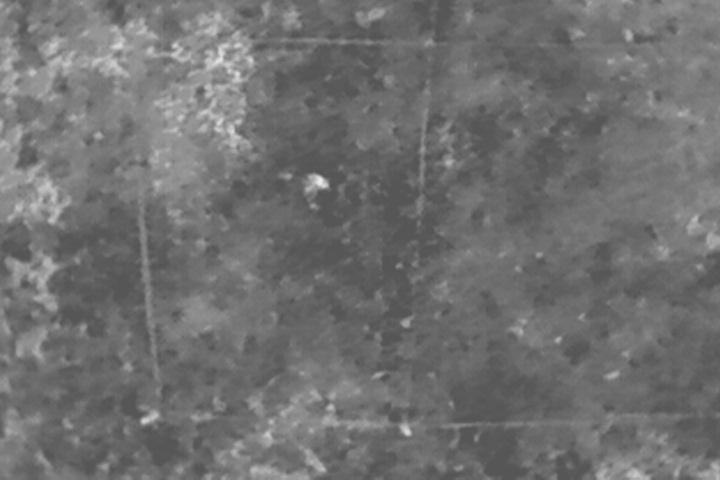landmine: (300, 169, 330, 207)
